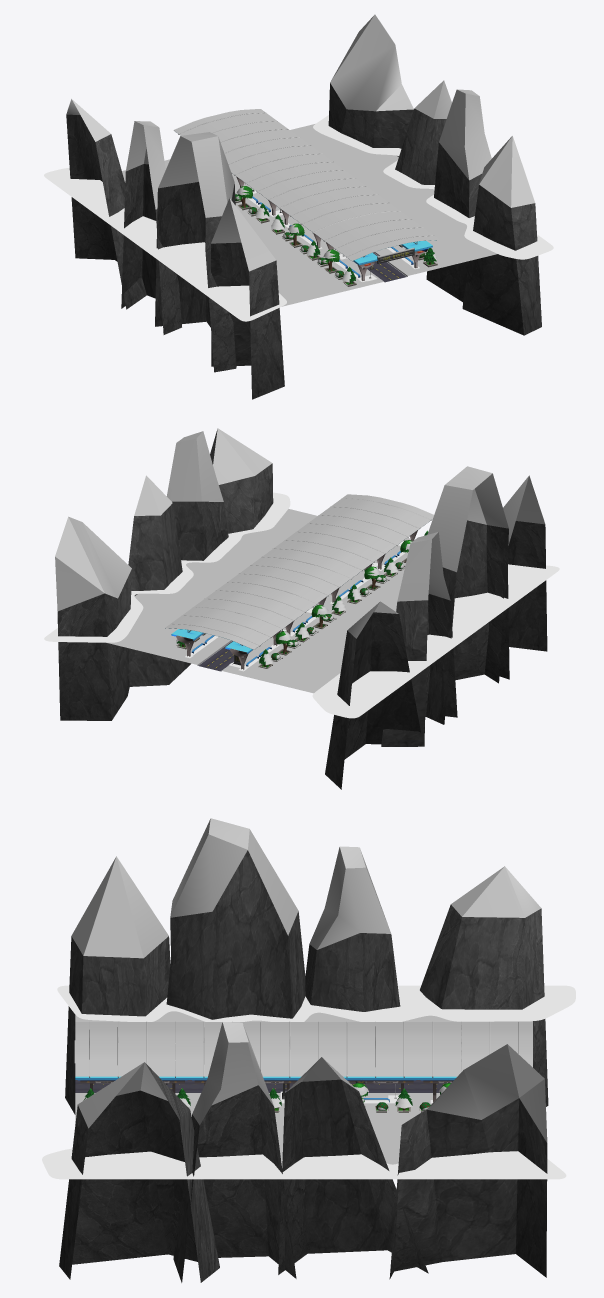
File: citywinter_18.fbx
3 views of the same model, one above another, from view 1: azimuth 30°, elevation 25°; view 2: azimuth 150°, elevation 25°; view 3: azimuth 270°, elevation 25° (orthographic). The views are drawn at different scales.
Visible parts, largest first — view 1: City_18; view 2: City_18; view 3: City_18.
Boxes of the visible parts, <box> form: City_18: <box>44,14,553,399</box>; City_18: <box>44,428,559,789</box>; City_18: <box>42,818,575,1282</box>.
Bounding box in the file's own units: 22617 × 13384 × 25170.
